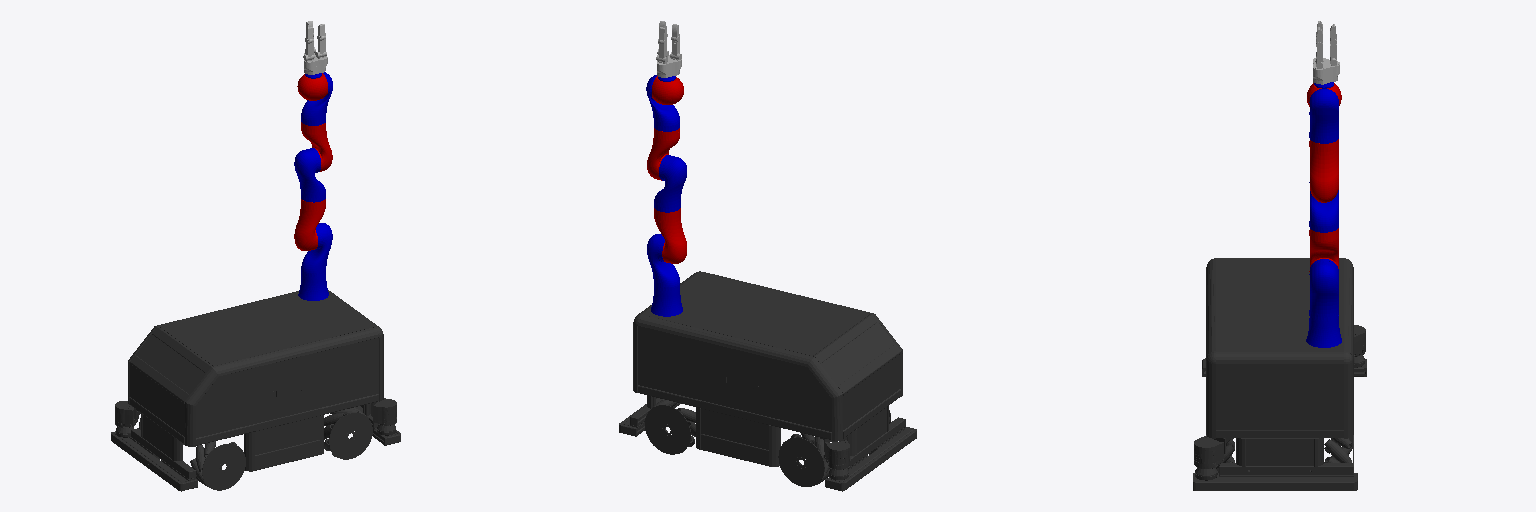
--- Render facts (derived) ---
3 views of the same robot in one strip: view 1: azimuth 30°, elevation 25°; view 2: azimuth 150°, elevation 25°; view 3: azimuth 270°, elevation 25° (orthographic).
Model omnirob with 29 links and 28 joints (15 revolute, 1 continuous, 2 prismatic, 10 fixed), rooted at base_link, posed every joint at zero.
Links seen in each view (by area): view 1: base_box_link, lbr_3_link, lbr_2_link, lbr_1_link, lbr_4_link, lbr_5_link, lbr_0_link, lbr_6_link; view 2: base_box_link, lbr_3_link, lbr_2_link, lbr_1_link, lbr_4_link, lbr_5_link, lbr_0_link, lbr_6_link; view 3: base_box_link, lbr_1_link, lbr_4_link, lbr_5_link, lbr_3_link, lbr_0_link, lbr_2_link.
Link boxes in pixels (x1,y1,x2,y2): base_box_link: (111, 290, 400, 491); lbr_3_link: (294, 148, 325, 202); lbr_2_link: (294, 199, 325, 250); lbr_1_link: (301, 223, 332, 278); lbr_4_link: (301, 122, 332, 171); lbr_5_link: (301, 72, 332, 125); lbr_0_link: (298, 273, 328, 300); lbr_6_link: (297, 73, 327, 100); base_box_link: (619, 271, 916, 491); lbr_3_link: (654, 155, 686, 212); lbr_2_link: (654, 208, 686, 263); lbr_1_link: (647, 234, 679, 291); lbr_4_link: (647, 128, 679, 180); lbr_5_link: (646, 75, 679, 131); lbr_0_link: (651, 288, 682, 316); lbr_6_link: (652, 76, 683, 104); base_box_link: (1193, 258, 1366, 490); lbr_1_link: (1309, 259, 1338, 321); lbr_4_link: (1309, 139, 1338, 202); lbr_5_link: (1309, 89, 1338, 143); lbr_3_link: (1309, 182, 1338, 232); lbr_0_link: (1306, 314, 1341, 347); lbr_2_link: (1309, 228, 1338, 271).
Size in the robot's own frame: 1.2 by 0.712 by 2.07 metres.
19 mesh visuals loaded from 13 distinct referenced files (13 binary STL).

URDF robot description (omnirob):
<?xml version="1.0" ?>
<!-- =================================================================================== -->
<!-- |    This document was autogenerated by xacro from omnirob_lbr_sdh2.xacro         | -->
<!-- |    EDITING THIS FILE BY HAND IS NOT RECOMMENDED                                 | -->
<!-- =================================================================================== -->
<robot name="omnirob" xmlns:controller="http://playerstage.sourceforge.net/gazebo/xmlschema/#controller" xmlns:interface="http://playerstage.sourceforge.net/gazebo/xmlschema/#interface" xmlns:sensor="http://playerstage.sourceforge.net/gazebo/xmlschema/#sensor" xmlns:xacro="http://ros.org/wiki/xacro">
  <material name="Blue">
    <color rgba="0.0 0.0 0.8 1.0"/>
  </material>
  <material name="Green">
    <color rgba="0.0 0.8 0.0 1.0"/>
  </material>
  <material name="Grey">
    <color rgba="0.7 0.7 0.7 1.0"/>
  </material>
  <material name="Grey2">
    <color rgba="0.9 0.9 0.9 1.0"/>
  </material>
  <material name="Red">
    <color rgba="0.8 0.0 0.0 1.0"/>
  </material>
  <material name="White">
    <color rgba="1.0 1.0 1.0 1.0"/>
  </material>
  <material name="Black">
    <color rgba="0.0 0.0 0.0 1.0"/>
  </material>
  <material name="pole_gray">
    <color rgba="0.9 0.9 0.9 1.0"/>
  </material>
  <material name="Schunk/LightGrey">
    <color rgba="0.7 0.7 0.7 1.0"/>
  </material>
  <material name="Schunk/DarkGrey">
    <color rgba="0.4 0.4 0.4 1.0"/>
  </material>
  <material name="Schunk/Black">
    <color rgba="0.0 0.0 0.0 1.0"/>
  </material>
  <material name="Schunk/DarkGolden">
    <color rgba="0.4 0.4 0.3 1.0"/>
  </material>
  <material name="Schunk/Blue">
    <color rgba="0.0 0.0 0.8 1.0"/>
  </material>
  <material name="asus_xtion_gray">
    <color rgba="0.6 0.6 0.6 1.0"/>
  </material>
  <material name="Gray">
    <color rgba="0.25 0.25 0.25 1.0"/>
  </material>
  
   <link name="base_link">
    <visual>
      <geometry>
        <sphere radius="0.0"/>
      </geometry>
      <material name="blue">
        <color rgba="0.0 0.0 0.8 1.0"/>
      </material>
    </visual>
  </link>
  
  
   <link name="base_x_link">
    <visual>
      <geometry>
        <sphere radius="0.0"/>
      </geometry>
      <material name="blue">
        <color rgba="0.0 0.0 0.8 1.0"/>
      </material>
    </visual>
  </link>
  
  
  <joint name="base_x_joint" type="prismatic">
    <parent link="base_link"/>
    <child link="base_x_link"/>
	<limit effort="1000.0" lower="-100.0" upper="100.0" velocity="0.5"/> 
	<axis xyz="1 0 0"/>
	<!-- <origin rpy="0 1.57075 0" xyz="0 0 0"/> -->
  </joint>
  
  
   <link name="base_y_link">
    <visual>
      <geometry>
        <sphere radius="0.0"/>
      </geometry>
      <material name="blue">
        <color rgba="0.0 0.0 0.8 1.0"/>
      </material>
    </visual>
  </link>
  
  
  <joint name="base_y_joint" type="prismatic">
    <parent link="base_x_link"/>
    <child link="base_y_link"/>
	<axis xyz="0 1 0"/>
	<limit effort="1000.0" lower="-100.0" upper="100.0" velocity="0.5"/> 
	<!-- <origin rpy="-1.57075 0 0" xyz="0 0 0"/> -->
  </joint>
  
  
   <link name="platform_link">
    <visual>
      <geometry>
        <sphere radius="0.0"/>
      </geometry>
      <material name="blue">
        <color rgba="0.0 0.0 0.8 1.0"/>
      </material>
    </visual>
  </link>
  
  
  <joint name="platform_joint" type="fixed">
    <parent link="base_y_link"/>
    <child link="platform_link"/>
    <limit effort="1000.0" lower="-10.0" upper="10.0" velocity="0.5"/>
    <origin rpy="0 0 0" xyz="0 0 0"/>
  </joint>
  
  
  <link name="base_theta_link">
    <visual>
      <geometry>
        <sphere radius="0.0"/>
      </geometry>
      <material name="blue">
        <color rgba="0.0 0.0 0.8 1.0"/>
      </material>
    </visual>
  </link>
  
  
  <joint name="base_theta_joint" type="continuous">
    <origin rpy="0 0 0" xyz="0 0 0"/>
    <parent link="platform_link"/>
    <child link="base_theta_link"/>
    <axis xyz="0 0 1"/>
	<!-- <limit effort="1000.0" lower="-3.1415" upper="3.1415" velocity="1.9634"/> --> 
  </joint>
  
  
  
   <link name="base_box_link">
    <visual>
      <origin rpy="0 0 0" xyz="0 0 0"/>
      <geometry>
        <mesh filename="package://omnirob_description/meshes/omnirob_hull.stl" scale="0.001 0.001 0.001"/>
      </geometry>
      <material name="Gray"/>
    </visual>
    <collision>
      <origin rpy="0 0 0" xyz="0 0 0"/>
      <geometry>
        <mesh filename="package://omnirob_description/meshes/omnirob_hull_low_res.stl" scale="0.001 0.001 0.001"/>
      </geometry>
    </collision>
  </link>
  
  
   <joint name="base_box_joint" type="fixed">
    <parent link="base_theta_link"/>
    <child link="base_box_link"/>
    <limit effort="1000.0" lower="-10.0" upper="10.0" velocity="0.5"/>
    <origin rpy="0 0 0" xyz="0 0 0"/>
  </joint>
  
  
  <link name="laser_front_link">
        </link>
  <link name="laser_rear_link">
        </link>
  <joint name="laser_front_joint" type="fixed">
    <parent link="base_box_link"/>
    <child link="laser_front_link"/>
    <origin rpy="0 0 -0.78893" xyz="0.542477 -0.317722 0.13664"/>
  </joint>
  <joint name="laser_rear_joint" type="fixed">
    <parent link="base_box_link"/>
    <child link="laser_rear_link"/>
    <origin rpy="0 0 2.31624" xyz="-0.534443 0.32895 0.13664"/>
  </joint>
  <link name="lbr_0_link">
    <inertial>
      <origin rpy="0 0 0" xyz="0 0 0"/>
      <mass value="1.0"/>
      <inertia ixx="0.01" ixy="0" ixz="0" iyy="0.01" iyz="0" izz="0.01"/>
    </inertial>
    <visual>
      <origin rpy="0 0 0" xyz="0 0 0"/>
      <geometry>
        <mesh filename="package://omnirob_description/meshes/lbr0.stl"/>
      </geometry>
      <material name="Blue"/>
    </visual>
    <collision>
      <origin rpy="0 0 0" xyz="0 0 0"/>
      <geometry>
        <mesh filename="package://omnirob_description/meshes/lbr0_low_res.stl"/>
      </geometry>
    </collision>
  </link>
  <joint name="lbr_1_joint" type="revolute">
    <!--<origin xyz="0 0 0.14" rpy="0 0 -2.8407"/> -->
    <origin rpy="0 0 0" xyz="0 0 0.1105"/>
    <parent link="lbr_0_link"/>
    <child link="lbr_1_link"/>
    <axis xyz="0 0 1"/>
    <dynamics damping="25"/>
    <limit effort="200" lower="-2.9670" upper="2.9670" velocity="1.9634"/>
  </joint>
  <link name="lbr_1_link">
    <inertial>
      <origin rpy="0 0 0" xyz="0 0 0"/>
      <mass value="5.9907"/>
      <inertia ixx="0.01" ixy="0" ixz="0" iyy="0.01" iyz="0" izz="0.01"/>
    </inertial>
    <visual>
      <origin rpy="0 0 0" xyz="0 0 0"/>
      <geometry>
        <mesh filename="package://omnirob_description/meshes/lbr1.stl"/>
      </geometry>
      <material name="Blue"/>
    </visual>
    <collision>
      <origin rpy="0 0 0" xyz="0 0 0"/>
      <geometry>
        <mesh filename="package://omnirob_description/meshes/lbr1_low_res.stl"/>
      </geometry>
    </collision>
  </link>
  <joint name="lbr_2_joint" type="revolute">
    <origin rpy="1.5708 0 0" xyz="0 0 0.1915"/>
    <parent link="lbr_1_link"/>
    <child link="lbr_2_link"/>
    <axis xyz="0 0 1"/>
    <dynamics damping="25"/>
    <limit effort="200" lower="-2.0943" upper="2.0943" velocity="1.9634"/>
  </joint>
  <link name="lbr_2_link">
    <inertial>
      <origin rpy="0 0 0" xyz="0 0 0.002"/>
      <mass value="5.734939"/>
      <inertia ixx="0.03" ixy="0" ixz="0" iyy="0.03" iyz="0" izz="0.03"/>
    </inertial>
    <visual>
      <origin rpy="0 0 0" xyz="0 0 0.002"/>
      <geometry>
        <mesh filename="package://omnirob_description/meshes/lbr2.stl"/>
      </geometry>
      <material name="Red"/>
    </visual>
    <collision>
      <origin rpy="0 0 0" xyz="0 0 0.002"/>
      <geometry>
        <mesh filename="package://omnirob_description/meshes/lbr2_low_res.stl"/>
      </geometry>
    </collision>
  </link>
  <joint name="lbr_3_joint" type="revolute">
    <origin rpy="-1.5708 0 0" xyz="0 0.2085 0"/>
    <parent link="lbr_2_link"/>
    <child link="lbr_3_link"/>
    <axis xyz="0 0 1"/>
    <dynamics damping="25"/>
    <limit effort="100" lower="-2.9670" upper="2.9670" velocity="1.9634"/>
  </joint>
  <link name="lbr_3_link">
    <inertial>
      <origin rpy="0 0 0" xyz="0 -0.002 0"/>
      <mass value="4.214668"/>
      <inertia ixx="0.03" ixy="0" ixz="0" iyy="0.03" iyz="0" izz="0.03"/>
    </inertial>
    <visual>
      <origin rpy="0 0 0" xyz="0 -0.002 0"/>
      <geometry>
        <mesh filename="package://omnirob_description/meshes/lbr3.stl"/>
      </geometry>
      <material name="Blue"/>
    </visual>
    <collision>
      <origin rpy="0 0 0" xyz="0 -0.002 0"/>
      <geometry>
        <mesh filename="package://omnirob_description/meshes/lbr3_low_res.stl"/>
      </geometry>
    </collision>
  </link>
  <joint name="lbr_4_joint" type="revolute">
    <origin rpy="-1.5708 0 0" xyz="0 0 0.1915"/>
    <parent link="lbr_3_link"/>
    <child link="lbr_4_link"/>
    <axis xyz="0 0 1"/>
    <dynamics damping="25"/>
    <limit effort="100" lower="-2.0943" upper="2.0943" velocity="1.9634"/>
  </joint>
  <link name="lbr_4_link">
    <inertial>
      <origin rpy="0 0 0" xyz="0 0 0"/>
      <mass value="3.669819"/>
      <inertia ixx="0.03" ixy="0" ixz="0" iyy="0.03" iyz="0" izz="0.03"/>
    </inertial>
    <visual>
      <origin rpy="0 0 0" xyz="0 0 0"/>
      <geometry>
        <mesh filename="package://omnirob_description/meshes/lbr4.stl"/>
      </geometry>
      <material name="Red"/>
    </visual>
    <collision>
      <origin rpy="0 0 0" xyz="0 0 0"/>
      <geometry>
        <mesh filename="package://omnirob_description/meshes/lbr4_low_res.stl"/>
      </geometry>
    </collision>
  </link>
  <joint name="lbr_5_joint" type="revolute">
    <origin rpy="1.5708 0 0" xyz="0 -0.2085 0"/>
    <parent link="lbr_4_link"/>
    <child link="lbr_5_link"/>
    <axis xyz="0 0 1"/>
    <dynamics damping="25"/>
    <limit effort="100" lower="-2.9670" upper="2.9670" velocity="3.1415926"/>
  </joint>
  <link name="lbr_5_link">
    <inertial>
      <origin rpy="0 0 0" xyz="0 0 0"/>
      <mass value="2.313272"/>
      <inertia ixx="0.03" ixy="0" ixz="0" iyy="0.03" iyz="0" izz="0.03"/>
    </inertial>
    <visual>
      <origin rpy="0 0 0" xyz="0 0 0"/>
      <geometry>
        <mesh filename="package://omnirob_description/meshes/lbr5.stl"/>
      </geometry>
      <material name="Blue"/>
    </visual>
    <collision>
      <origin rpy="0 0 0" xyz="0 0 0"/>
      <geometry>
        <mesh filename="package://omnirob_description/meshes/lbr5_low_res.stl"/>
      </geometry>
    </collision>
  </link>
  <joint name="lbr_6_joint" type="revolute">
    <origin rpy="1.5708 0 0" xyz="0 0 0.1815"/>
    <parent link="lbr_5_link"/>
    <child link="lbr_6_link"/>
    <axis xyz="0 0 1"/>
    <dynamics damping="25"/>
    <limit effort="30" lower="-2.0943951" upper="2.0943951" velocity="1.9634"/>
  </joint>
  <link name="lbr_6_link">
    <inertial>
      <origin rpy="0 0 0" xyz="0 0 0"/>
      <mass value="2.057856"/>
      <inertia ixx="0.01" ixy="0" ixz="0" iyy="0.01" iyz="0" izz="0.01"/>
    </inertial>
    <visual>
      <origin rpy="0 0 0" xyz="0 0 -0.046"/>
      <geometry>
        <mesh filename="package://omnirob_description/meshes/lbr6.stl"/>
      </geometry>
      <material name="Red"/>
    </visual>
    <collision>
      <origin rpy="0 0 0" xyz="0 0 -0.046"/>
      <geometry>
        <mesh filename="package://omnirob_description/meshes/lbr6_low_res.stl"/>
      </geometry>
    </collision>
  </link>
  <joint name="lbr_7_joint" type="revolute">
    <origin rpy="-1.5708 0 0" xyz="0 0.057 0"/>
    <parent link="lbr_6_link"/>
    <child link="lbr_7_link"/>
    <axis xyz="0 0 1"/>
    <dynamics damping="25"/>
    <limit effort="30" lower="-2.9670" upper="2.9670" velocity="1.9634"/>
  </joint>
  <link name="lbr_7_link">
    <inertial>
      <origin rpy="0 0 0" xyz="0 0 0"/>
      <mass value="1.120198"/>
      <inertia ixx="0.01" ixy="0" ixz="0" iyy="0.01" iyz="0" izz="0.01"/>
    </inertial>
    <visual>
      <origin rpy="0 0 0" xyz="0 0 0"/>
      <geometry>
        <mesh filename="package://omnirob_description/meshes/lbr7.stl"/>
      </geometry>
      <material name="Blue"/>
    </visual>
    <collision>
      <origin rpy="0 0 0" xyz="0 0 0"/>
      <geometry>
        <mesh filename="package://omnirob_description/meshes/lbr7_low_res.stl"/>
      </geometry>
    </collision>
  </link>
  <joint name="flange" type="fixed">
    <parent link="lbr_7_link"/>
    <child link="lbr_flange_link"/>
    <origin rpy="0 0 0" xyz="0 0 0.0195"/>
  </joint>
  <link name="lbr_flange_link">
	<visual>
      <geometry>
        <sphere radius="0.01"/>
      </geometry>
      <material name="blue">
        <color rgba="0.0 0.0 0.8 1.0"/>
      </material>
    </visual>
	<collision>
      <geometry>
        <sphere radius="0.01"/>
      </geometry>
    </collision>
  </link>
  <joint name="omnirob_base_joint" type="fixed">
    <origin rpy="0 0 -1.5708" xyz="0.42 0.18 0.655"/>
    <parent link="base_box_link"/>
    <child link="lbr_0_link"/>
  </joint>
  <!--
  <joint name="pole_base_joint" type="fixed">
    <origin rpy="0 0 0" xyz="-0.35 -0.25 0.64"/>
    <parent link="base_box_link"/>
    <child link="pole_base_link"/>
  </joint>
  <link name="pole_base_link">
    <visual>
      <geometry>
        <box size="0.08 0.08 1.01"/>
      </geometry>
      <origin xyz="0.04 0.04 0.505"/>
      <material name="pole_gray"/>
    </visual>
    <collision>
      <geometry>
        <box size="0.08 0.08 1.01"/>
      </geometry>
      <origin xyz="0.04 0.04 0.505"/>
    </collision>
  </link>
  <joint name="pole_top_joint" type="fixed">
    <parent link="pole_base_link"/>
    <child link="pole_top_link"/>
    <origin rpy="0 0 0" xyz="0 0 1.01"/>
  </joint>
  <link name="pole_top_link">
    <visual>
      <geometry>
        <box size="0.36 0.04 0.04"/>
      </geometry>
      <origin xyz="0.18 0.02 0.02"/>
      <material name="pole_gray"/>
    </visual>
    <collision>
      <geometry>
        <box size="0.36 0.04 0.04"/>
      </geometry>
      <origin xyz="0.18 0.02 0.02"/>
    </collision>
  </link>
  <joint name="pole_top2_joint" type="fixed">
    <parent link="pole_base_link"/>
    <child link="pole_top2_link"/>
    <origin rpy="0 0 1.57" xyz="0.04 0.04 1.01"/>
  </joint>
  <link name="pole_top2_link">
    <visual>
      <geometry>
        <box size="0.31 0.04 0.04"/>
      </geometry>
      <origin xyz="0.155 0.02 0.02"/>
      <material name="pole_gray"/>
    </visual>
    <collision>
      <geometry>
        <box size="0.31 0.04 0.04"/>
      </geometry>
      <origin xyz="0.155 0.02 0.02"/>
    </collision>
  </link>
  <joint name="camera_base_joint" type="fixed">
    <parent link="pole_top2_link"/>
    <child link="camera_link"/>
    <origin rpy="0 0.5 -1.57" xyz="0.14 -0.01 0"/>
  </joint>
  <link name="camera_depth_frame"/>
  <link name="camera_rgb_frame"/>
  <link name="camera_depth_optical_frame"/>
  <link name="camera_rgb_optical_frame"/>
  <link name="camera_link">
    <visual>
      <geometry>
        <box size="0.04 0.18 0.048"/>
      </geometry>
      <origin xyz="0 0 0"/>
      <material name="asus_xtion_gray"/>
    </visual>
    <collision>
      <geometry>
        <box size="0.04 0.18 0.048"/>
      </geometry>
      <origin xyz="0 0 0"/>
    </collision>
  </link>
  <joint name="camera_joint1" type="fixed">
    <parent link="camera_link"/>
    <child link="camera_depth_frame"/>
    <origin rpy="0 0 0" xyz="0 0.049 0.013"/>
  </joint>
  <joint name="camera_joint2" type="fixed">
    <parent link="camera_link"/>
    <child link="camera_rgb_frame"/>
    <origin rpy="0 0 0" xyz="0 0.022 0.013"/>
  </joint>
  <joint name="camera_joint3" type="fixed">
    <parent link="camera_depth_frame"/>
    <child link="camera_depth_optical_frame"/>
    <origin rpy="-1.57 0 -1.57" xyz="0 0 0"/>
  </joint>
  <joint name="camera_joint4" type="fixed">
    <parent link="camera_rgb_frame"/>
    <child link="camera_rgb_optical_frame"/>
    <origin rpy="-1.57 0 -1.57" xyz="0 0 0"/>
  </joint>
  -->
  <link name="sdh2_palm_link">
    <inertial>
      <origin rpy="0 0 0" xyz="0 0 0"/>
      <mass value="1"/>
      <inertia ixx="0.01" ixy="0" ixz="0" iyy="0.01" iyz="0" izz="0.01"/>
    </inertial>
    <visual>
      <origin rpy="0 0 0" xyz="0 0 0"/>
      <geometry>
        <mesh filename="package://sdh2_description/meshes/palm.stl"/>
      </geometry>
      <material name="Schunk/LightGrey"/>
    </visual>
    <collision>
      <origin rpy="0 0 0" xyz="0 0 0"/>
      <geometry>
        <mesh filename="package://sdh2_description/meshes/palm_low_res.stl"/>
      </geometry>
    </collision>
  </link>
  <joint name="sdh2_grasp_joint" type="fixed">
    <origin rpy="0 0 0" xyz="0 0 0.15"/>
    <parent link="sdh2_palm_link"/>
    <child link="sdh2_grasp_link"/>
  </joint>
  <link name="sdh2_grasp_link"/>
  <joint name="sdh2_tip_joint" type="fixed">
    <origin rpy="0 0 0" xyz="0 0 0.22"/>
    <parent link="sdh2_palm_link"/>
    <child link="sdh2_tip_link"/>
  </joint>
  <link name="sdh2_tip_link"/>
  <joint name="sdh2_knuckle_joint" type="revolute">
    <origin rpy="0 0 3.14159265" xyz="0.01905 0.033 0.0745"/>
    <parent link="sdh2_palm_link"/>
    <child link="sdh2_finger_11_link"/>
    <axis xyz="0 0 1"/>
    <dynamics damping="1"/>
    <limit effort="100" lower="0" upper="1.570796327" velocity="5"/>
  </joint>
  <link name="sdh2_finger_11_link">
    <inertial>
      <origin rpy="0 0 0" xyz="0 0 0"/>
      <mass value="0.1"/>
      <inertia ixx="0.01" ixy="0" ixz="0" iyy="0.01" iyz="0" izz="0.01"/>
    </inertial>
    <visual>
      <origin rpy="0 0 0" xyz="0 0 0"/>
      <geometry>
        <mesh filename="package://sdh2_description/meshes/knuckle.stl"/>
      </geometry>
      <material name="Schunk/LightGrey"/>
    </visual>
    <collision>
      <origin rpy="0 0 0" xyz="0 0 0"/>
      <geometry>
        <mesh filename="package://sdh2_description/meshes/knuckle_low_res.stl"/>
      </geometry>
    </collision>
  </link>
  <joint name="sdh2_finger_12_joint" type="revolute">
    <origin rpy="0 0 0" xyz="0 0 0.0165"/>
    <parent link="sdh2_finger_11_link"/>
    <child link="sdh2_finger_12_link"/>
    <axis xyz="0 1 0"/>
    <dynamics damping="1"/>
    <limit effort="100" lower="-1.570796327" upper="1.570796327" velocity="5"/>
  </joint>
  <link name="sdh2_finger_12_link">
    <inertial>
      <origin rpy="0 0 0" xyz="0 0 0"/>
      <mass value="0.1"/>
      <inertia ixx="0.01" ixy="0" ixz="0" iyy="0.01" iyz="0" izz="0.01"/>
    </inertial>
    <visual>
      <origin rpy="0 0 0" xyz="0 0 0"/>
      <geometry>
        <mesh filename="package://sdh2_description/meshes/finger.stl"/>
      </geometry>
      <material name="Schunk/LightGrey"/>
    </visual>
    <collision>
      <origin rpy="0 0 0" xyz="0 0 0"/>
      <geometry>
        <mesh filename="package://sdh2_description/meshes/finger_low_res.stl"/>
      </geometry>
    </collision>
  </link>
  <joint name="sdh2_finger_13_joint" type="revolute">
    <origin rpy="0 0 0" xyz="0 0 0.0865"/>
    <parent link="sdh2_finger_12_link"/>
    <child link="sdh2_finger_13_link"/>
    <axis xyz="0 1 0"/>
    <dynamics damping="1"/>
    <limit effort="100" lower="-1.570796327" upper="1.570796327" velocity="5"/>
  </joint>
  <link name="sdh2_finger_13_link">
    <inertial>
      <origin rpy="0 0 0" xyz="0 0 0"/>
      <mass value="0.1"/>
      <inertia ixx="0.01" ixy="0" ixz="0" iyy="0.01" iyz="0" izz="0.01"/>
    </inertial>
    <visual>
      <origin rpy="0 0 0" xyz="0 0 0"/>
      <geometry>
        <mesh filename="package://sdh2_description/meshes/finger_tip.stl"/>
      </geometry>
      <material name="Schunk/LightGrey"/>
    </visual>
    <collision>
      <origin rpy="0 0 0" xyz="0 0 0"/>
      <geometry>
        <mesh filename="package://sdh2_description/meshes/finger_tip_low_res.stl"/>
      </geometry>
    </collision>
  </link>
  <joint name="sdh2_finger_21_joint" type="revolute">
    <mimic joint="sdh2_knuckle_joint" multiplier="1" offset="0"/>
    <origin rpy="0 0 3.14159265" xyz="0.01905 -0.033 0.0745"/>
    <parent link="sdh2_palm_link"/>
    <child link="sdh2_finger_21_link"/>
    <axis xyz="0 0 -1"/>
    <dynamics damping="1"/>
    <limit effort="100" lower="0" upper="1.570796327" velocity="5"/>
  </joint>
  <link name="sdh2_finger_21_link">
    <inertial>
      <origin rpy="0 0 0" xyz="0 0 0"/>
      <mass value="0.1"/>
      <inertia ixx="0.01" ixy="0" ixz="0" iyy="0.01" iyz="0" izz="0.01"/>
    </inertial>
    <visual>
      <origin rpy="0 0 0" xyz="0 0 0"/>
      <geometry>
        <mesh filename="package://sdh2_description/meshes/knuckle.stl"/>
      </geometry>
      <material name="Schunk/LightGrey"/>
    </visual>
    <collision>
      <origin rpy="0 0 0" xyz="0 0 0"/>
      <geometry>
        <mesh filename="package://sdh2_description/meshes/knuckle_low_res.stl"/>
      </geometry>
    </collision>
  </link>
  <joint name="sdh2_finger_22_joint" type="revolute">
    <origin rpy="0 0 0" xyz="0 0 0.0165"/>
    <parent link="sdh2_finger_21_link"/>
    <child link="sdh2_finger_22_link"/>
    <axis xyz="0 1 0"/>
    <dynamics damping="1"/>
    <limit effort="100" lower="-1.570796327" upper="1.570796327" velocity="5"/>
  </joint>
  <link name="sdh2_finger_22_link">
    <inertial>
      <origin rpy="0 0 0" xyz="0 0 0"/>
      <mass value="0.1"/>
      <inertia ixx="0.01" ixy="0" ixz="0" iyy="0.01" iyz="0" izz="0.01"/>
    </inertial>
    <visual>
      <origin rpy="0 0 0" xyz="0 0 0"/>
      <geometry>
        <mesh filename="package://sdh2_description/meshes/finger.stl"/>
      </geometry>
      <material name="Schunk/LightGrey"/>
    </visual>
    <collision>
      <origin rpy="0 0 0" xyz="0 0 0"/>
      <geometry>
        <mesh filename="package://sdh2_description/meshes/finger_low_res.stl"/>
      </geometry>
    </collision>
  </link>
  <joint name="sdh2_finger_23_joint" type="revolute">
    <origin rpy="0 0 0" xyz="0 0 0.0865"/>
    <parent link="sdh2_finger_22_link"/>
    <child link="sdh2_finger_23_link"/>
    <axis xyz="0 1 0"/>
    <dynamics damping="1"/>
    <limit effort="100" lower="-1.570796327" upper="1.570796327" velocity="5"/>
  </joint>
  <link name="sdh2_finger_23_link">
    <inertial>
      <origin rpy="0 0 0" xyz="0 0 0"/>
      <mass value="0.1"/>
      <inertia ixx="0.01" ixy="0" ixz="0" iyy="0.01" iyz="0" izz="0.01"/>
    </inertial>
    <visual>
      <origin rpy="0 0 0" xyz="0 0 0"/>
      <geometry>
        <mesh filename="package://sdh2_description/meshes/finger_tip.stl"/>
      </geometry>
      <material name="Schunk/LightGrey"/>
    </visual>
    <collision>
      <origin rpy="0 0 0" xyz="0 0 0"/>
      <geometry>
        <mesh filename="package://sdh2_description/meshes/finger_tip_low_res.stl"/>
      </geometry>
    </collision>
  </link>
  <joint name="sdh2_thumb_1_joint" type="fixed">
    <origin rpy="0 0 0" xyz="-0.03811 0 0.0745 "/>
    <parent link="sdh2_palm_link"/>
    <child link="sdh2_thumb_1_link"/>
  </joint>
  <link name="sdh2_thumb_1_link">
    <inertial>
      <origin rpy="0 0 0" xyz="0 0 0"/>
      <mass value="0.1"/>
      <inertia ixx="0.01" ixy="0" ixz="0" iyy="0.01" iyz="0" izz="0.01"/>
    </inertial>
    <visual>
      <origin rpy="0 0 0" xyz="0 0 0"/>
      <geometry>
        <mesh filename="package://sdh2_description/meshes/knuckle.stl"/>
      </geometry>
      <material name="Schunk/LightGrey"/>
    </visual>
    <collision>
      <origin rpy="0 0 0" xyz="0 0 0"/>
      <geometry>
        <mesh filename="package://sdh2_description/meshes/knuckle_low_res.stl"/>
      </geometry>
    </collision>
  </link>
  <joint name="sdh2_thumb_2_joint" type="revolute">
    <origin rpy="0 0 0" xyz="0 0 0.0165"/>
    <parent link="sdh2_thumb_1_link"/>
    <child link="sdh2_thumb_2_link"/>
    <axis xyz="0 1 0"/>
    <dynamics damping="1"/>
    <limit effort="100" lower="-1.570796327" upper="1.570796327" velocity="5"/>
  </joint>
  <link name="sdh2_thumb_2_link">
    <inertial>
      <origin rpy="0 0 0" xyz="0 0 0"/>
      <mass value="0.1"/>
      <inertia ixx="0.01" ixy="0" ixz="0" iyy="0.01" iyz="0" izz="0.01"/>
    </inertial>
    <visual>
      <origin rpy="0 0 0" xyz="0 0 0"/>
      <geometry>
        <mesh filename="package://sdh2_description/meshes/finger.stl"/>
      </geometry>
      <material name="Schunk/LightGrey"/>
    </visual>
    <collision>
      <origin rpy="0 0 0" xyz="0 0 0"/>
      <geometry>
        <mesh filename="package://sdh2_description/meshes/finger_low_res.stl"/>
      </geometry>
    </collision>
  </link>
  <joint name="sdh2_thumb_3_joint" type="revolute">
    <origin rpy="0 0 0" xyz="0 0 0.0865"/>
    <parent link="sdh2_thumb_2_link"/>
    <child link="sdh2_thumb_3_link"/>
    <axis xyz="0 1 0"/>
    <dynamics damping="1"/>
    <limit effort="100" lower="-1.570796327" upper="1.570796327" velocity="5"/>
  </joint>
  <link name="sdh2_thumb_3_link">
    <inertial>
      <origin rpy="0 0 0" xyz="0 0 0"/>
      <mass value="0.1"/>
      <inertia ixx="0.01" ixy="0" ixz="0" iyy="0.01" iyz="0" izz="0.01"/>
    </inertial>
    <visual>
      <origin rpy="0 0 0" xyz="0 0 0"/>
      <geometry>
        <mesh filename="package://sdh2_description/meshes/finger_tip.stl"/>
      </geometry>
      <material name="Schunk/LightGrey"/>
    </visual>
    <collision>
      <origin rpy="0 0 0" xyz="0 0 0"/>
      <geometry>
        <mesh filename="package://sdh2_description/meshes/finger_tip_low_res.stl"/>
      </geometry>
    </collision>
  </link>
  <gazebo reference="sdh2_palm_link">
    <material>Schunk/LightGrey</material>
    <turnGravityOff>false</turnGravityOff>
  </gazebo>
  <gazebo reference="sdh2_finger_11_link">
    <material>Schunk/LightGrey</material>
    <turnGravityOff>false</turnGravityOff>
  </gazebo>
  <gazebo reference="sdh2_finger_12_link">
    <selfCollide>true</selfCollide>
    <sensor:contact name="sdh2_finger_12_contact_sensor">
      <geom>sdh2_finger_12_link_geom</geom>
      <updateRate>100.0</updateRate>
      <controller:gazebo_ros_bumper name="sdh2_finger_12_gazebo_ros_bumper_controller" plugin="libgazebo_ros_bumper.so">
        <alwaysOn>true</alwaysOn>
        <updateRate>100.0</updateRate>
        <frameName>sdh2_finger_12_link</frameName>
        <bumperTopicName>sdh2_finger_12_bumper</bumperTopicName>
        <interface:bumper name="sdh2_finger_12_bumper_iface"/>
      </controller:gazebo_ros_bumper>
    </sensor:contact>
    <material>Schunk/LightGrey</material>
    <turnGravityOff>false</turnGravityOff>
  </gazebo>
  <gazebo reference="sdh2_finger_13_link">
    <selfCollide>true</selfCollide>
    <sensor:contact name="sdh2_finger_13_contact_sensor">
      <geom>sdh2_finger_13_link_geom</geom>
      <updateRate>100.0</updateRate>
      <controller:gazebo_ros_bumper name="sdh2_finger_13_gazebo_ros_bumper_controller" plugin="libgazebo_ros_bumper.so">
        <alwaysOn>true</alwaysOn>
        <updateRate>100.0</updateRate>
        <frameName>sdh2_finger_13_link</frameName>
        <bumperTopicName>sdh2_finger_13_bumper</bumperTopicName>
        <interface:bumper name="sdh2_finger_13_bumper_iface"/>
      </controller:gazebo_ros_bumper>
    </sensor:contact>
    <material>Schunk/LightGrey</material>
  </gazebo>
  <gazebo reference="sdh2_finger_21_link">
    <material>Schunk/LightGrey</material>
    <turnGravityOff>false</turnGravityOff>
  </gazebo>
  <gazebo reference="sdh2_finger_22_link">
    <selfCollide>true</selfCollide>
    <sensor:contact name="sdh2_finger_22_contact_sensor">
      <geom>sdh2_finger_22_link_geom</geom>
      <updateRate>100.0</updateRate>
      <controller:gazebo_ros_bumper name="sdh2_finger_22_gazebo_ros_bumper_controller" plugin="libgazebo_ros_bumper.so">
        <alwaysOn>true</alwaysOn>
        <updateRate>100.0</updateRate>
        <frameName>sdh2_finger_22_link</frameName>
        <bumperTopicName>sdh2_finger_22_bumper</bumperTopicName>
        <interface:bumper name="sdh2_finger_22_bumper_iface"/>
      </controller:gazebo_ros_bumper>
    </sensor:contact>
    <material>Schunk/LightGrey</material>
    <turnGravityOff>false</turnGravityOff>
  </gazebo>
  <gazebo reference="sdh2_finger_23_link">
    <selfCollide>true</selfCollide>
    <sensor:contact name="sdh2_finger_23_contact_sensor">
      <geom>sdh2_finger_23_link_geom</geom>
      <updateRate>100.0</updateRate>
      <controller:gazebo_ros_bumper name="sdh2_finger_23_gazebo_ros_bumper_controller" plugin="libgazebo_ros_bumper.so">
        <alwaysOn>true</alwaysOn>
        <updateRate>100.0</updateRate>
        <frameName>sdh2_finger_23_link</frameName>
        <bumperTopicName>sdh2_finger_23_bumper</bumperTopicName>
        <interface:bumper name="sdh2_finger_23_bumper_iface"/>
      </controller:gazebo_ros_bumper>
    </sensor:contact>
    <material>Schunk/LightGrey</material>
  </gazebo>
  <gazebo reference="sdh2_thumb_1_link">
    <material>Schunk/LightGrey</material>
    <turnGravityOff>false</turnGravityOff>
  </gazebo>
  <gazebo reference="sdh2_thumb_2_link">
    <selfCollide>true</selfCollide>
    <sensor:contact name="sdh2_thumb_2_contact_sensor">
      <geom>sdh2_thumb_2_link_geom</geom>
      <updateRate>100.0</updateRate>
      <controller:gazebo_ros_bumper name="sdh2_thumb_2_gazebo_ros_bumper_controller" plugin="libgazebo_ros_bumper.so">
        <alwaysOn>true</alwaysOn>
        <updateRate>100.0</updateRate>
        <frameName>sdh2_thumb_2_link</frameName>
        <bumperTopicName>sdh2_thumb_2_bumper</bumperTopicName>
        <interface:bumper name="sdh2_thumb_2_bumper_iface"/>
      </controller:gazebo_ros_bumper>
    </sensor:contact>
    <material>Schunk/LightGrey</material>
    <turnGravityOff>false</turnGravityOff>
  </gazebo>
  <gazebo reference="sdh2_thumb_3_link">
    <selfCollide>true</selfCollide>
    <sensor:contact name="sdh2_thumb_3_contact_sensor">
      <geom>sdh2_thumb_3_link_geom</geom>
      <updateRate>100.0</updateRate>
      <controller:gazebo_ros_bumper name="sdh2_thumb_3_gazebo_ros_bumper_controller" plugin="libgazebo_ros_bumper.so">
        <alwaysOn>true</alwaysOn>
        <updateRate>100.0</updateRate>
        <frameName>sdh2_thumb_3_link</frameName>
        <bumperTopicName>sdh2_thumb_3_bumper</bumperTopicName>
        <interface:bumper name="sdh2_thumb_3_bumper_iface"/>
      </controller:gazebo_ros_bumper>
    </sensor:contact>
    <material>Schunk/LightGrey</material>
  </gazebo>
  <transmission name="sdh2_knuckle_trans" type="pr2_mechanism_model/SimpleTransmission">
    <actuator name="sdh2_knuckle_motor"/>
    <joint name="sdh2_finger_21_joint"/>
    <mechanicalReduction>1</mechanicalReduction>
  </transmission>
  <transmission name="sdh2_knuckle_trans" type="pr2_mechanism_model/SimpleTransmission">
    <actuator name="sdh2_knuckle_motor"/>
    <joint name="sdh2_knuckle_joint"/>
    <mechanicalReduction>1</mechanicalReduction>
  </transmission>
  <transmission name="sdh2_finger_12_trans" type="pr2_mechanism_model/SimpleTransmission">
    <actuator name="sdh2_finger_12_motor"/>
    <joint name="sdh2_finger_12_joint"/>
    <mechanicalReduction>1</mechanicalReduction>
  </transmission>
  <transmission name="sdh2_finger_13_trans" type="pr2_mechanism_model/SimpleTransmission">
    <actuator name="sdh2_finger_13_motor"/>
    <joint name="sdh2_finger_13_joint"/>
    <mechanicalReduction>1</mechanicalReduction>
  </transmission>
  <transmission name="sdh2_finger_22_trans" type="pr2_mechanism_model/SimpleTransmission">
    <actuator name="sdh2_finger_22_motor"/>
    <joint name="sdh2_finger_22_joint"/>
    <mechanicalReduction>1</mechanicalReduction>
  </transmission>
  <transmission name="sdh2_finger_23_trans" type="pr2_mechanism_model/SimpleTransmission">
    <actuator name="sdh2_finger_23_motor"/>
    <joint name="sdh2_finger_23_joint"/>
    <mechanicalReduction>1</mechanicalReduction>
  </transmission>
  <transmission name="sdh2_thumb_2_trans" type="pr2_mechanism_model/SimpleTransmission">
    <actuator name="sdh2_thumb_2_motor"/>
    <joint name="sdh2_thumb_2_joint"/>
    <mechanicalReduction>1</mechanicalReduction>
  </transmission>
  <transmission name="sdh2_thumb_3_trans" type="pr2_mechanism_model/SimpleTransmission">
    <actuator name="sdh2_thumb_3_motor"/>
    <joint name="sdh2_thumb_3_joint"/>
    <mechanicalReduction>1</mechanicalReduction>
  </transmission>
  <joint name="sdh2_palm_joint" type="fixed">
    <origin rpy="0 0 0" xyz="0 0 0"/>
    <parent link="lbr_flange_link"/>
    <child link="sdh2_palm_link"/>
  </joint> 
 
  
 
  
</robot>
